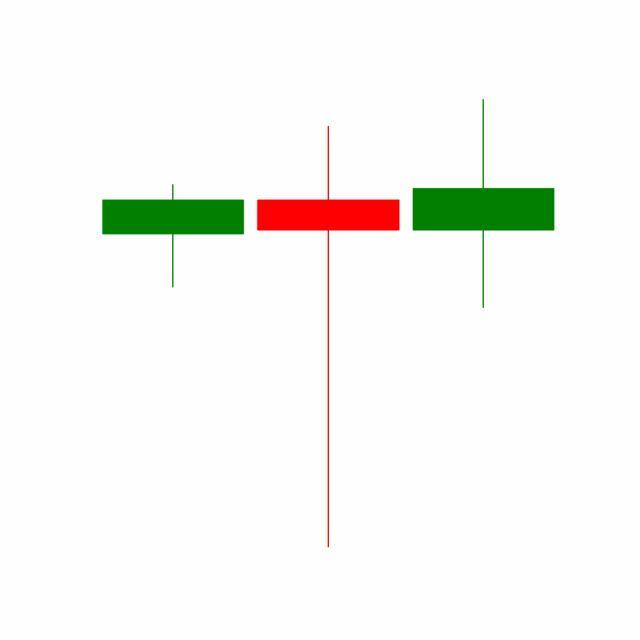Spinning Top: (250, 122, 407, 553)
